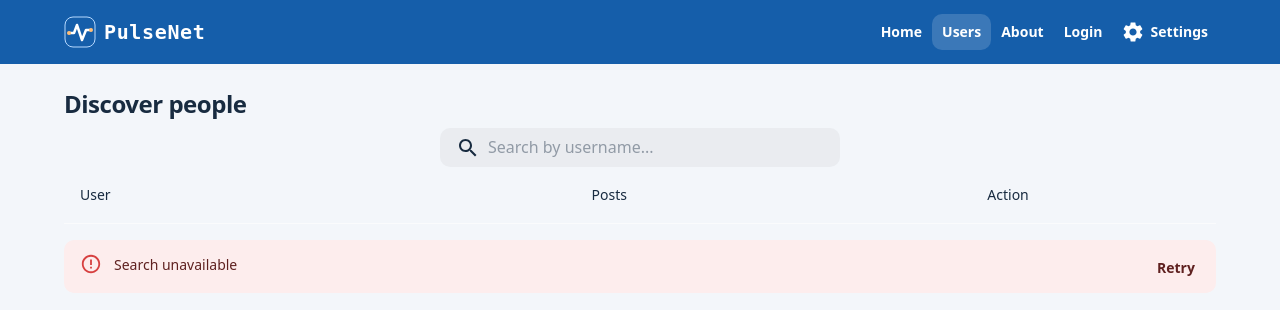
Test case: frontend request recovery › shows user-search failures, retains the query, and retries an empty result
Type "alex" into the field with placeholder "Search by username...". click: (640, 148)
box: 440,128 -> 840,167
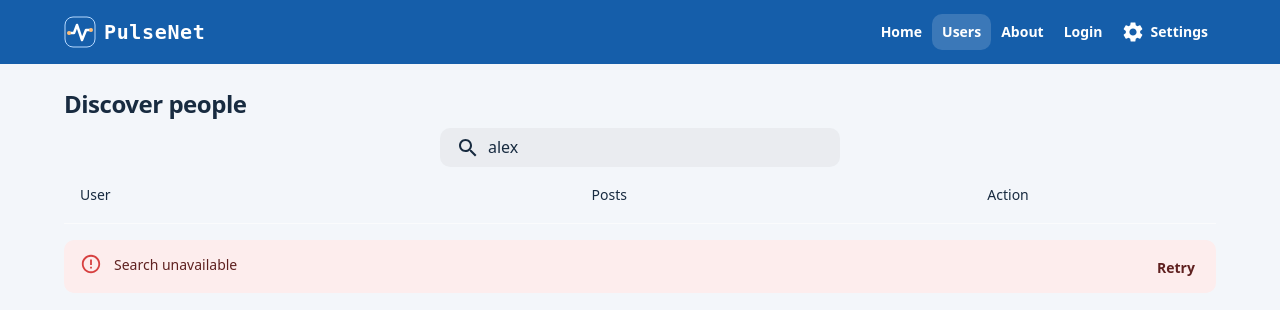
Expected: the text "Search unavailable" is shown, 114,255 -> 237,274
Expected: the text "No users found." is not shown
Click the button "Retry". click: (1176, 269)
box: 1144,250 -> 1208,287
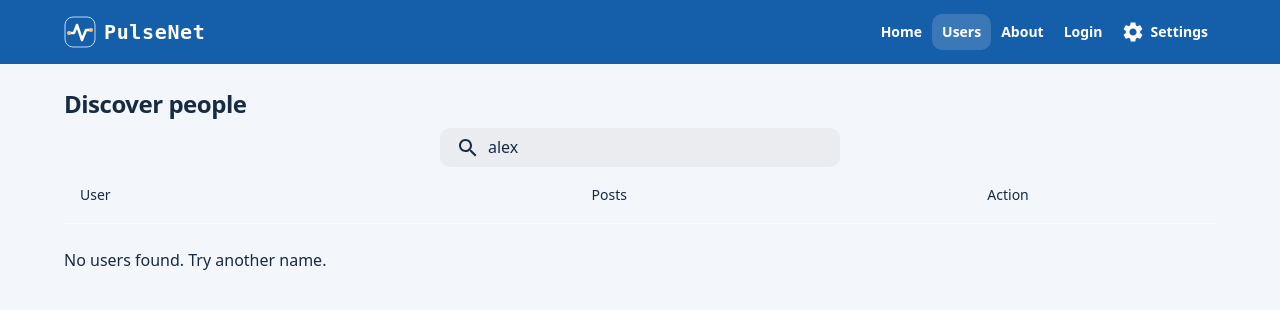
Expected: the text "No users found. Try another name." is shown, 64,249 -> 326,271
